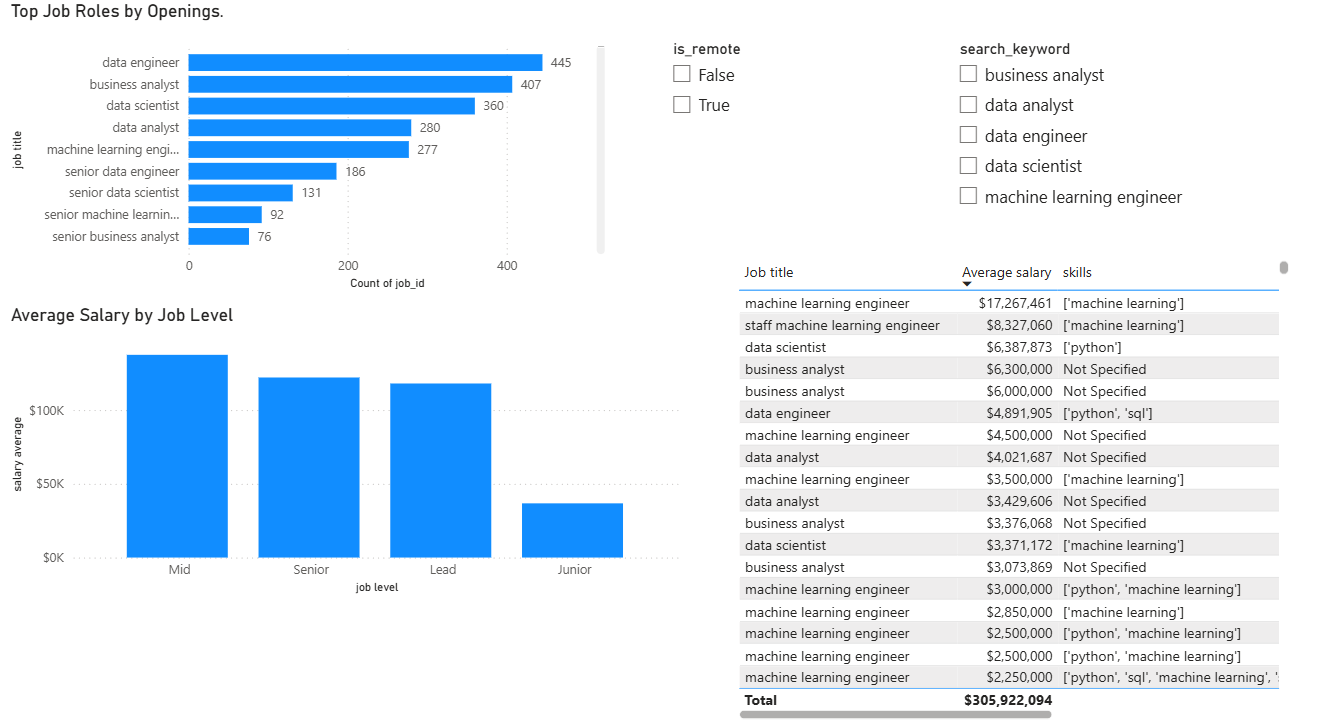

This screenshot's page, from the dashboard's own definition file:
{"tool":"powerbi","page":{"name":"Page 3","canvas":[1280,720],"ordinal":2},"visuals":[{"type":"clusteredBarChart","title":"Top Job Roles by Openings.","fields":{"Category":["final_clean_jobs_dataset.job_title"],"Y":["CountNonNull(final_clean_jobs_dataset.job_id)"]},"box":[10,0,575.7,280],"z":0},{"type":"clusteredColumnChart","title":"Average Salary by Job Level","fields":{"Category":["final_clean_jobs_dataset.job_level"],"Y":["Avg(final_clean_jobs_dataset.salary_avg)"]},"box":[10,290,647.1,280],"z":1},{"type":"slicer","fields":{"Values":["final_clean_jobs_dataset.search_keyword"]},"box":[905.7,32.9,245.7,188.6],"z":2},{"type":"slicer","fields":{"Values":["final_clean_jobs_dataset.is_remote"]},"box":[632.9,32.9,272.9,240],"z":3},{"type":"tableEx","fields":{"Values":["final_clean_jobs_dataset.job_title","Sum(final_clean_jobs_dataset.salary_avg)","final_clean_jobs_dataset.clean_skills","final_clean_jobs_dataset.job_level","final_clean_jobs_dataset.company"]},"box":[702.9,242.9,534.3,447.1],"z":4}]}

Visuals, with their boxes on the page's 1280x720 design canvas (x1, y1, x2, y2). These are canvas units, not pixel positions in the 1333x727 screenshot, which may show the page scaled, cropped or inside an application window:
"Top Job Roles by Openings." clusteredBarChart: 10/0/586/280
"Average Salary by Job Level" clusteredColumnChart: 10/290/657/570
slicer - final_clean_jobs_dataset.search_keyword: 906/33/1151/222
slicer - final_clean_jobs_dataset.is_remote: 633/33/906/273
tableEx - final_clean_jobs_dataset.job_title x Sum(final_clean_jobs_dataset.salary_avg): 703/243/1237/690
